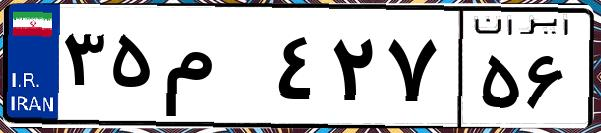2: (330, 28, 385, 110)
3: (57, 26, 110, 100)
4: (270, 28, 330, 110)
5: (475, 38, 525, 113), (110, 28, 158, 98)
6: (525, 38, 570, 115)
7: (385, 28, 445, 110)
م: (158, 20, 270, 120)
